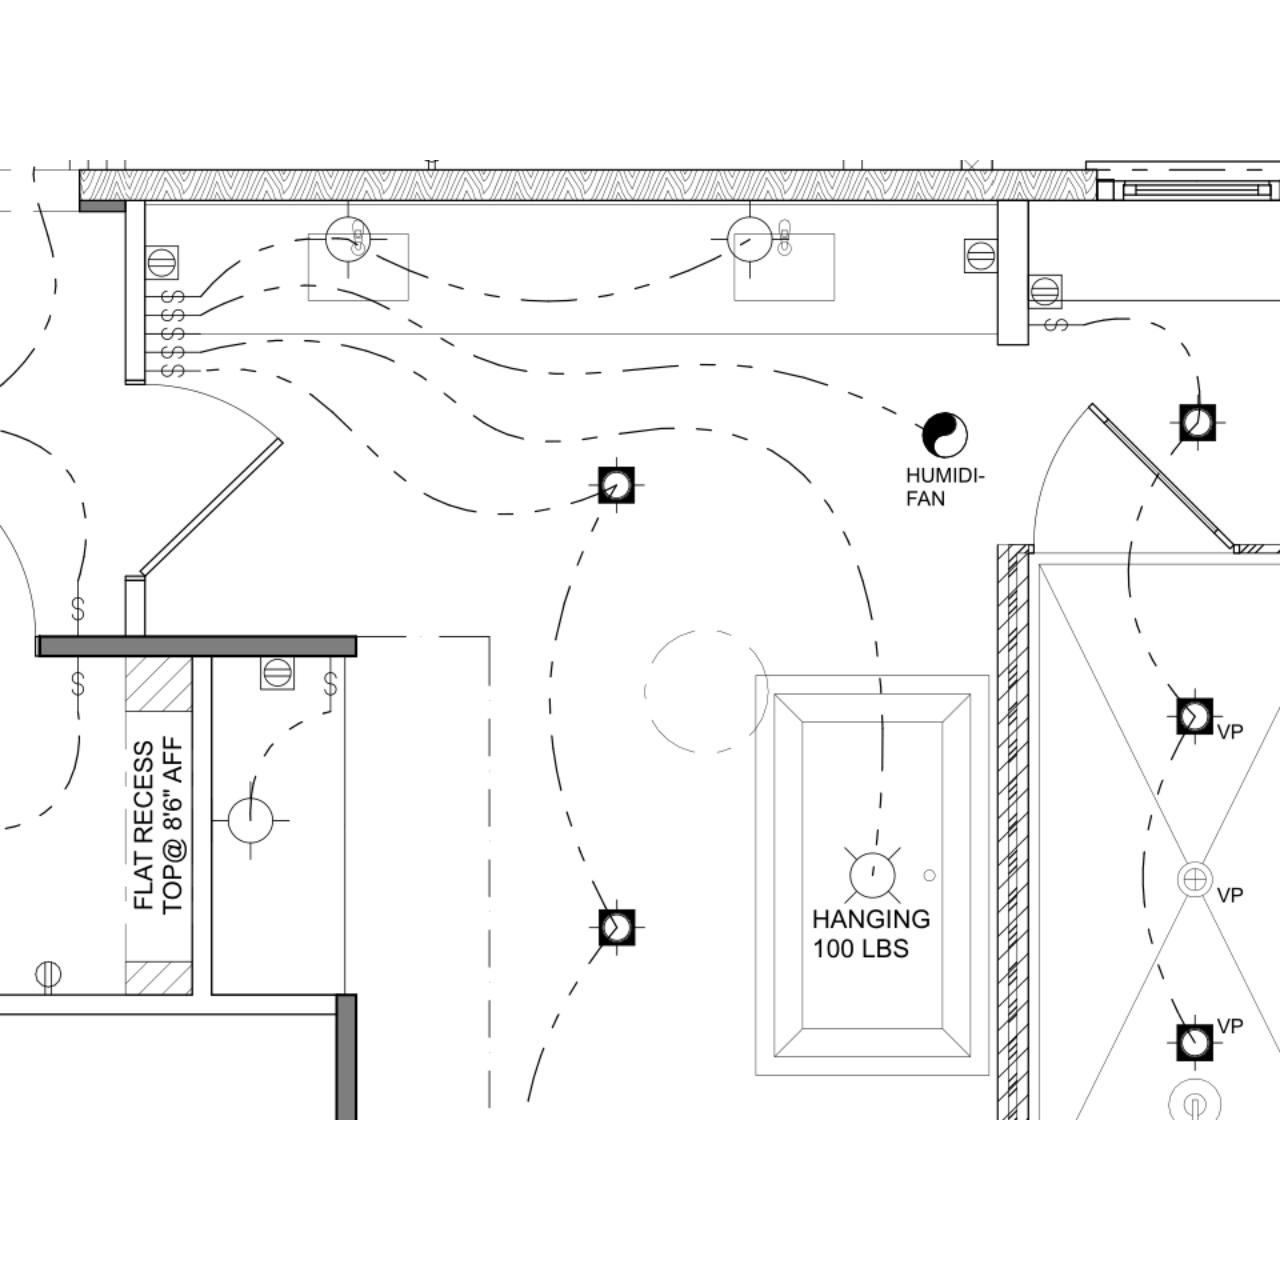Bathroom Fan: (921, 411, 968, 458)
Ceiling Light: (304, 204, 388, 279), (709, 202, 790, 279), (212, 781, 287, 859), (840, 845, 904, 906)
Duplex Outlet: (30, 960, 64, 993), (417, 159, 445, 168)
GFCIOutlet: (960, 234, 1002, 275), (1027, 274, 1063, 309), (259, 654, 294, 688), (147, 245, 178, 279)
ress_can_light: (1166, 1012, 1246, 1070), (1164, 686, 1227, 749), (588, 454, 648, 515), (1169, 392, 1228, 452), (588, 899, 646, 960)
